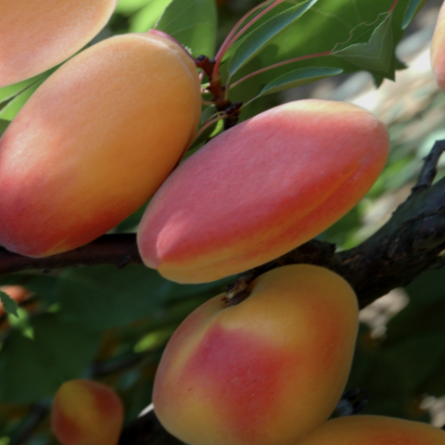mango: (96, 40, 422, 336), (0, 0, 262, 301), (93, 204, 418, 445)
